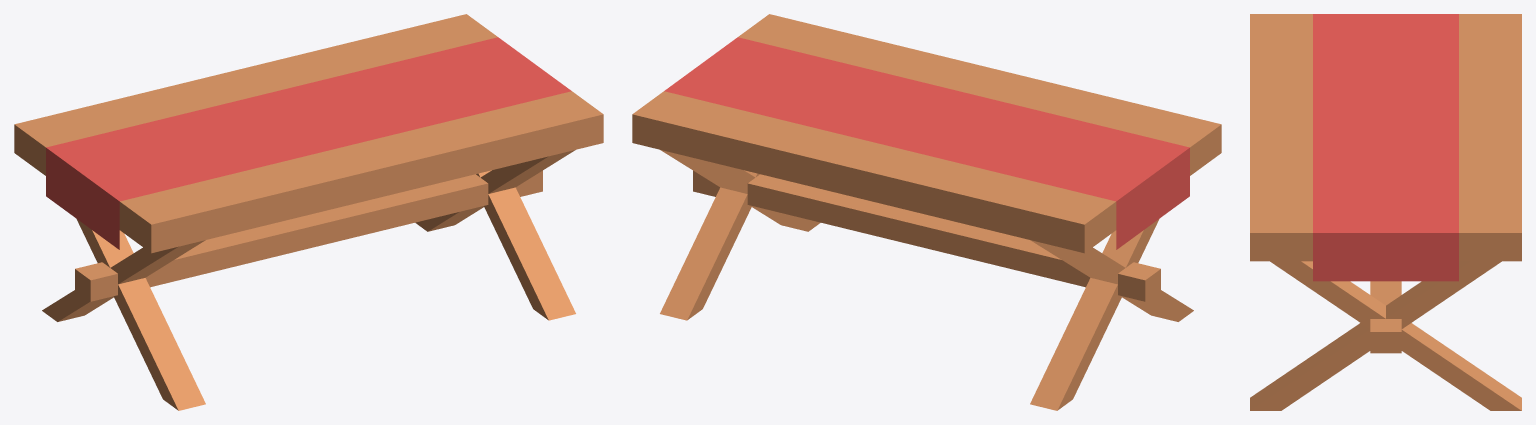
The model's file is tableCrossCloth.fbx.
3 renders of one model, left to right at view 1: azimuth 30°, elevation 25°; view 2: azimuth 150°, elevation 25°; view 3: azimuth 270°, elevation 25°, orthographic.
Visible parts, largest first — view 1: tableCrossCloth; view 2: tableCrossCloth; view 3: tableCrossCloth.
Boxes of the visible parts, <box> form: tableCrossCloth: <box>14,14,603,410</box>; tableCrossCloth: <box>632,14,1221,410</box>; tableCrossCloth: <box>1250,14,1521,410</box>.
Bounding box in the file's own units: 8.52 × 3.47 × 4.47.
